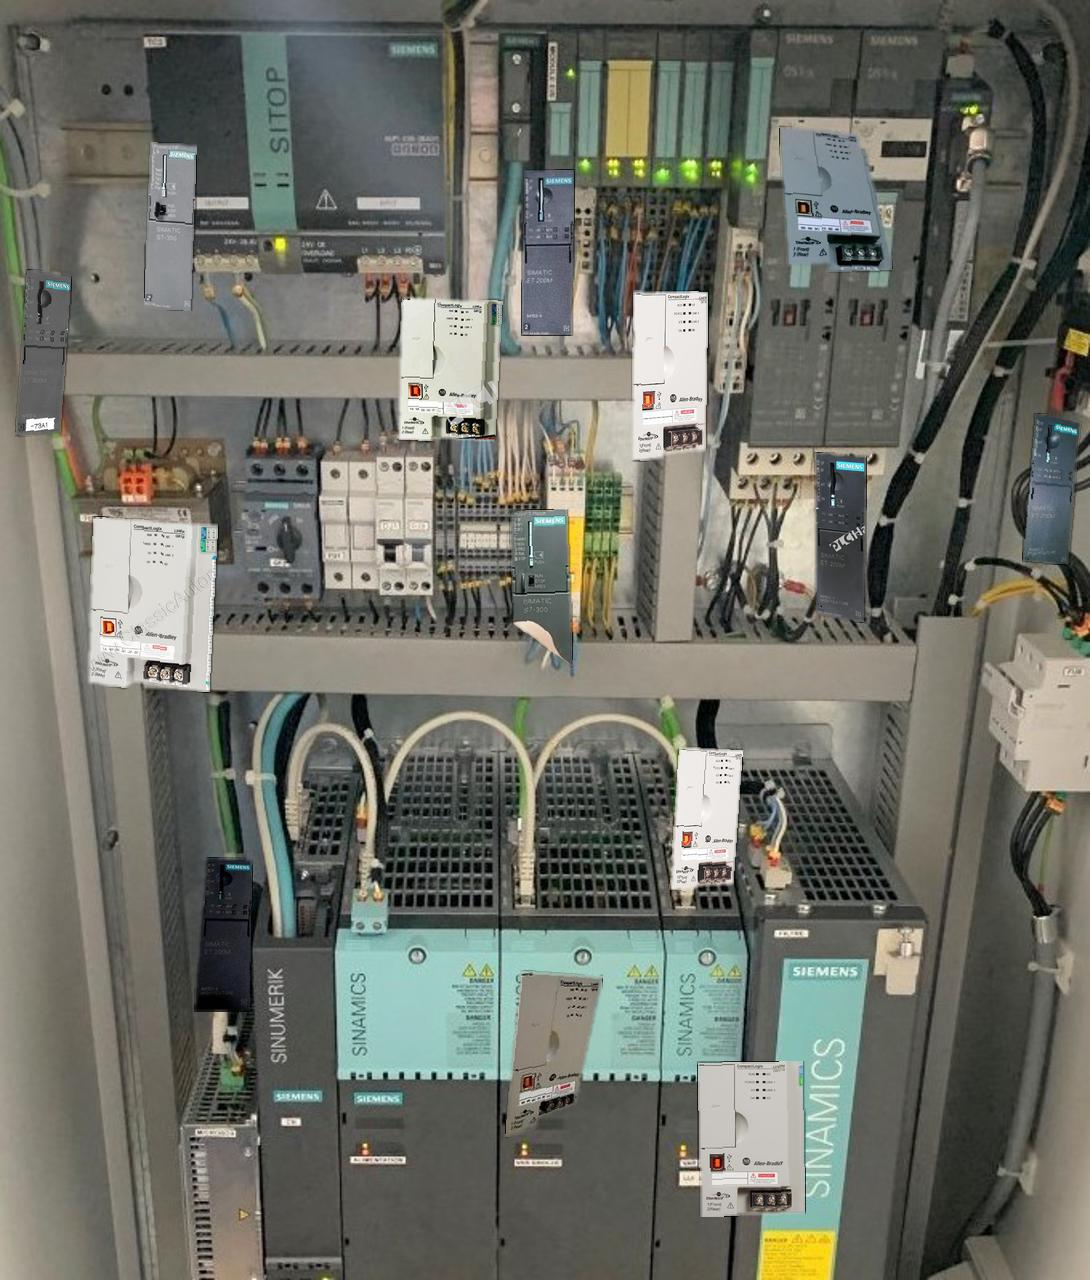AllenBradley: (89, 517, 217, 691), (697, 1061, 805, 1216), (779, 126, 892, 270), (505, 972, 602, 1136), (398, 297, 501, 440), (633, 291, 707, 461), (672, 748, 742, 889)
Siemens: (510, 509, 572, 665), (144, 142, 196, 310)
